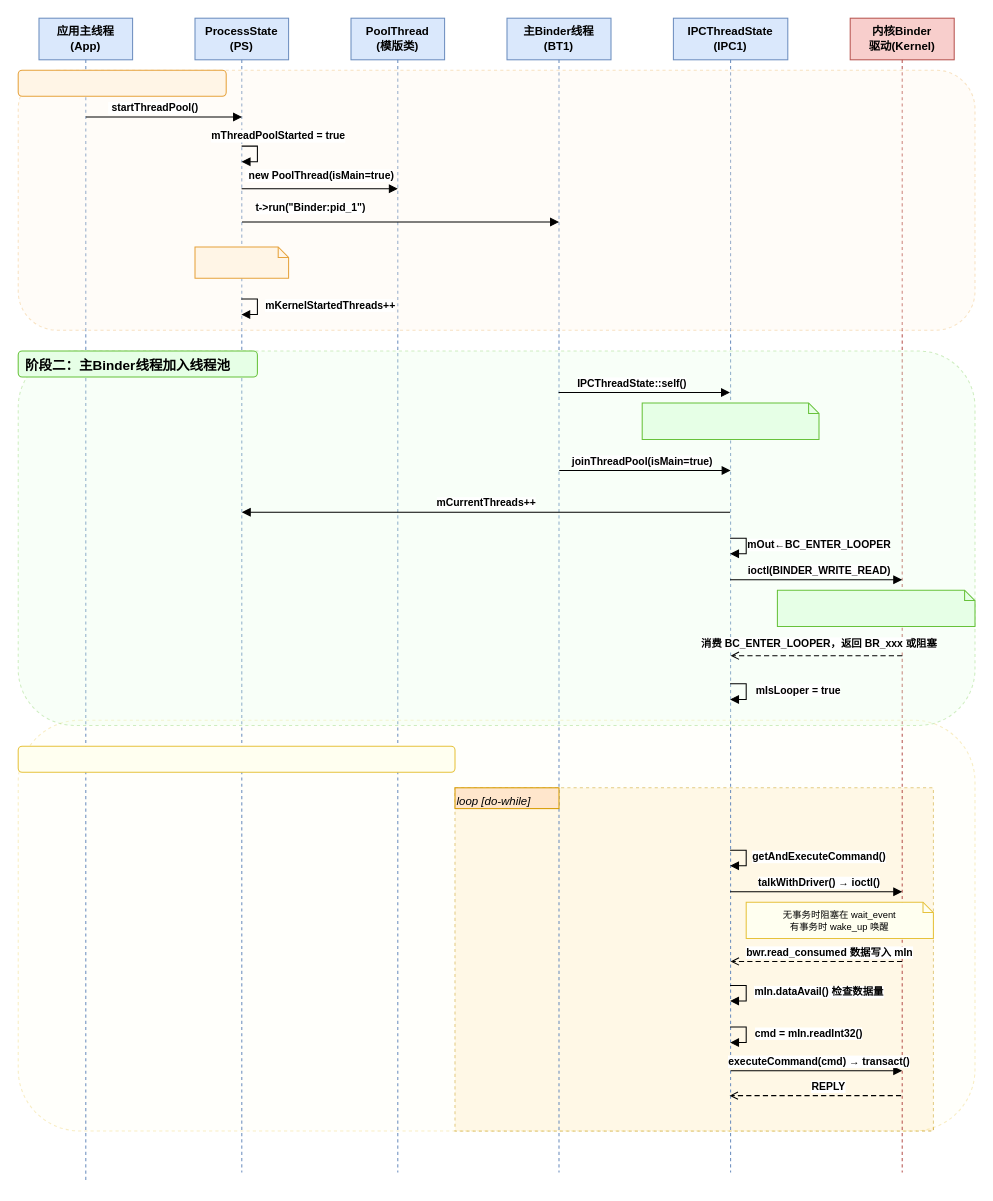
This 993x1201 diagram has some shape labels left out. Here are the shapes that lost their labels. From the top down, the centre of each, then its label:
point (121, 82): 阶段一：主线程启动线程池
point (241, 262): 主线程立即返回， 继续做自己的事
point (730, 420): TLS查找为空 → new IPCThreadState 初始化 mIn(256B) / mOut(256B)
point (875, 608): write_buffer=mOut(BC_ENTER_LOOPER) read_buffer=mIn(等待驱动返回)
point (236, 758): 阶段三：主循环处理事务 (do-while 循环，isMain=true 不因超时退出)
